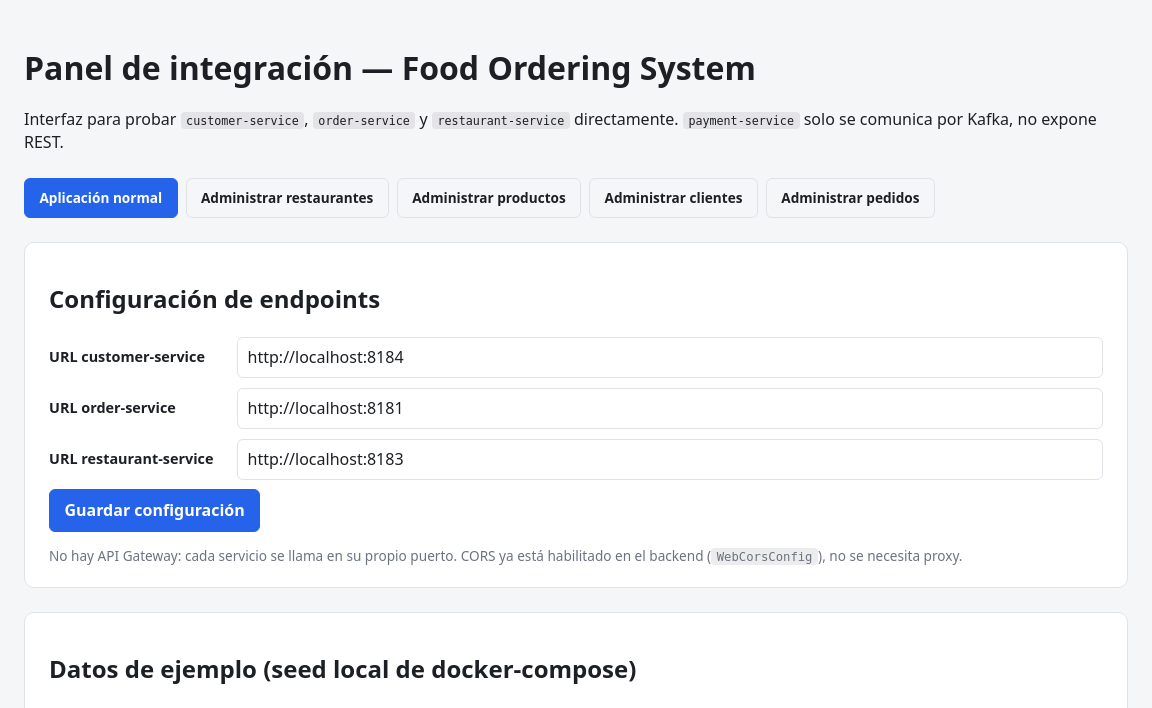
Test: App › each admin tab renders its own section and fetches its own data
This screenshot has width=1152, height=708.
Click the button "Administrar clientes" at (674, 198), box left=589, top=178, right=758, bottom=218
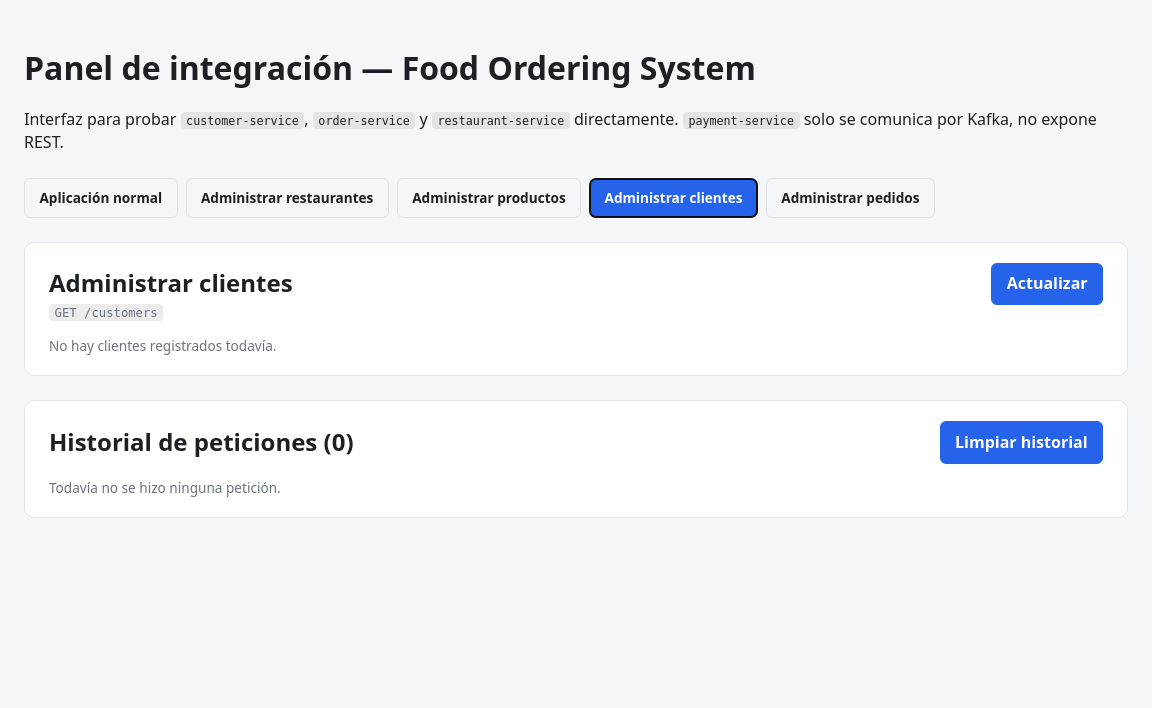
Expected: the heading "Administrar clientes" is shown, left=49, top=266, right=293, bottom=301
Click the button "Administrar pedidos" at (850, 198), box left=766, top=178, right=935, bottom=218
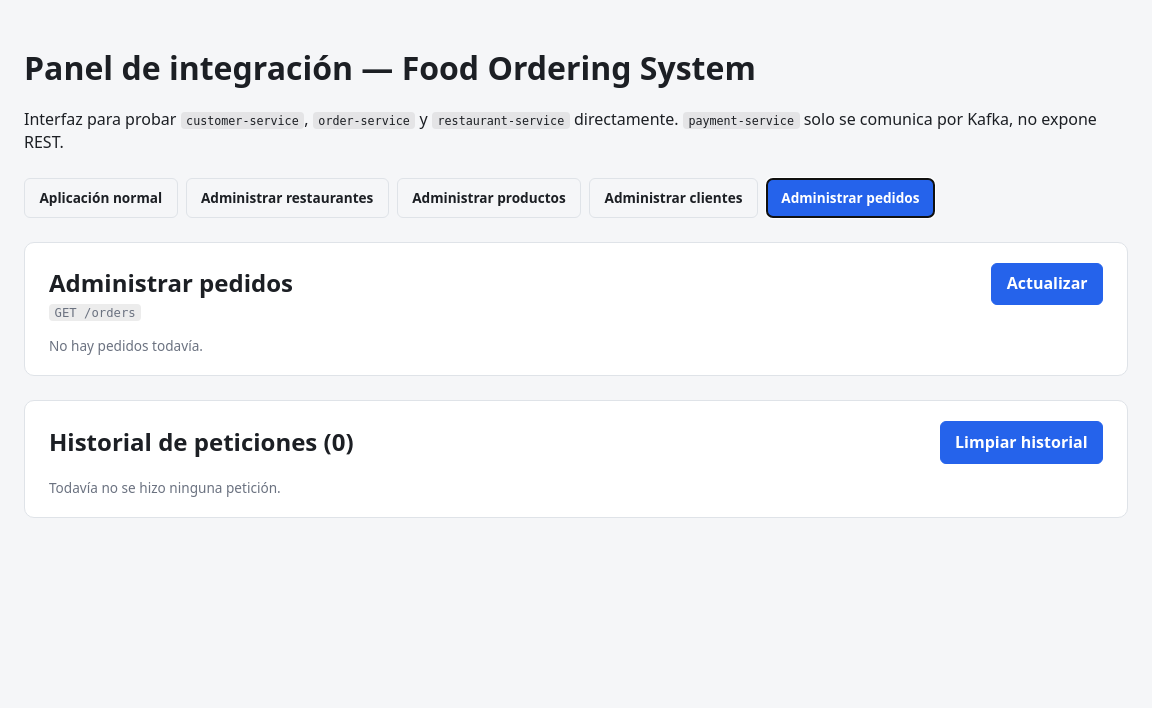
Expected: the heading "Administrar pedidos" is shown, left=49, top=266, right=293, bottom=301
